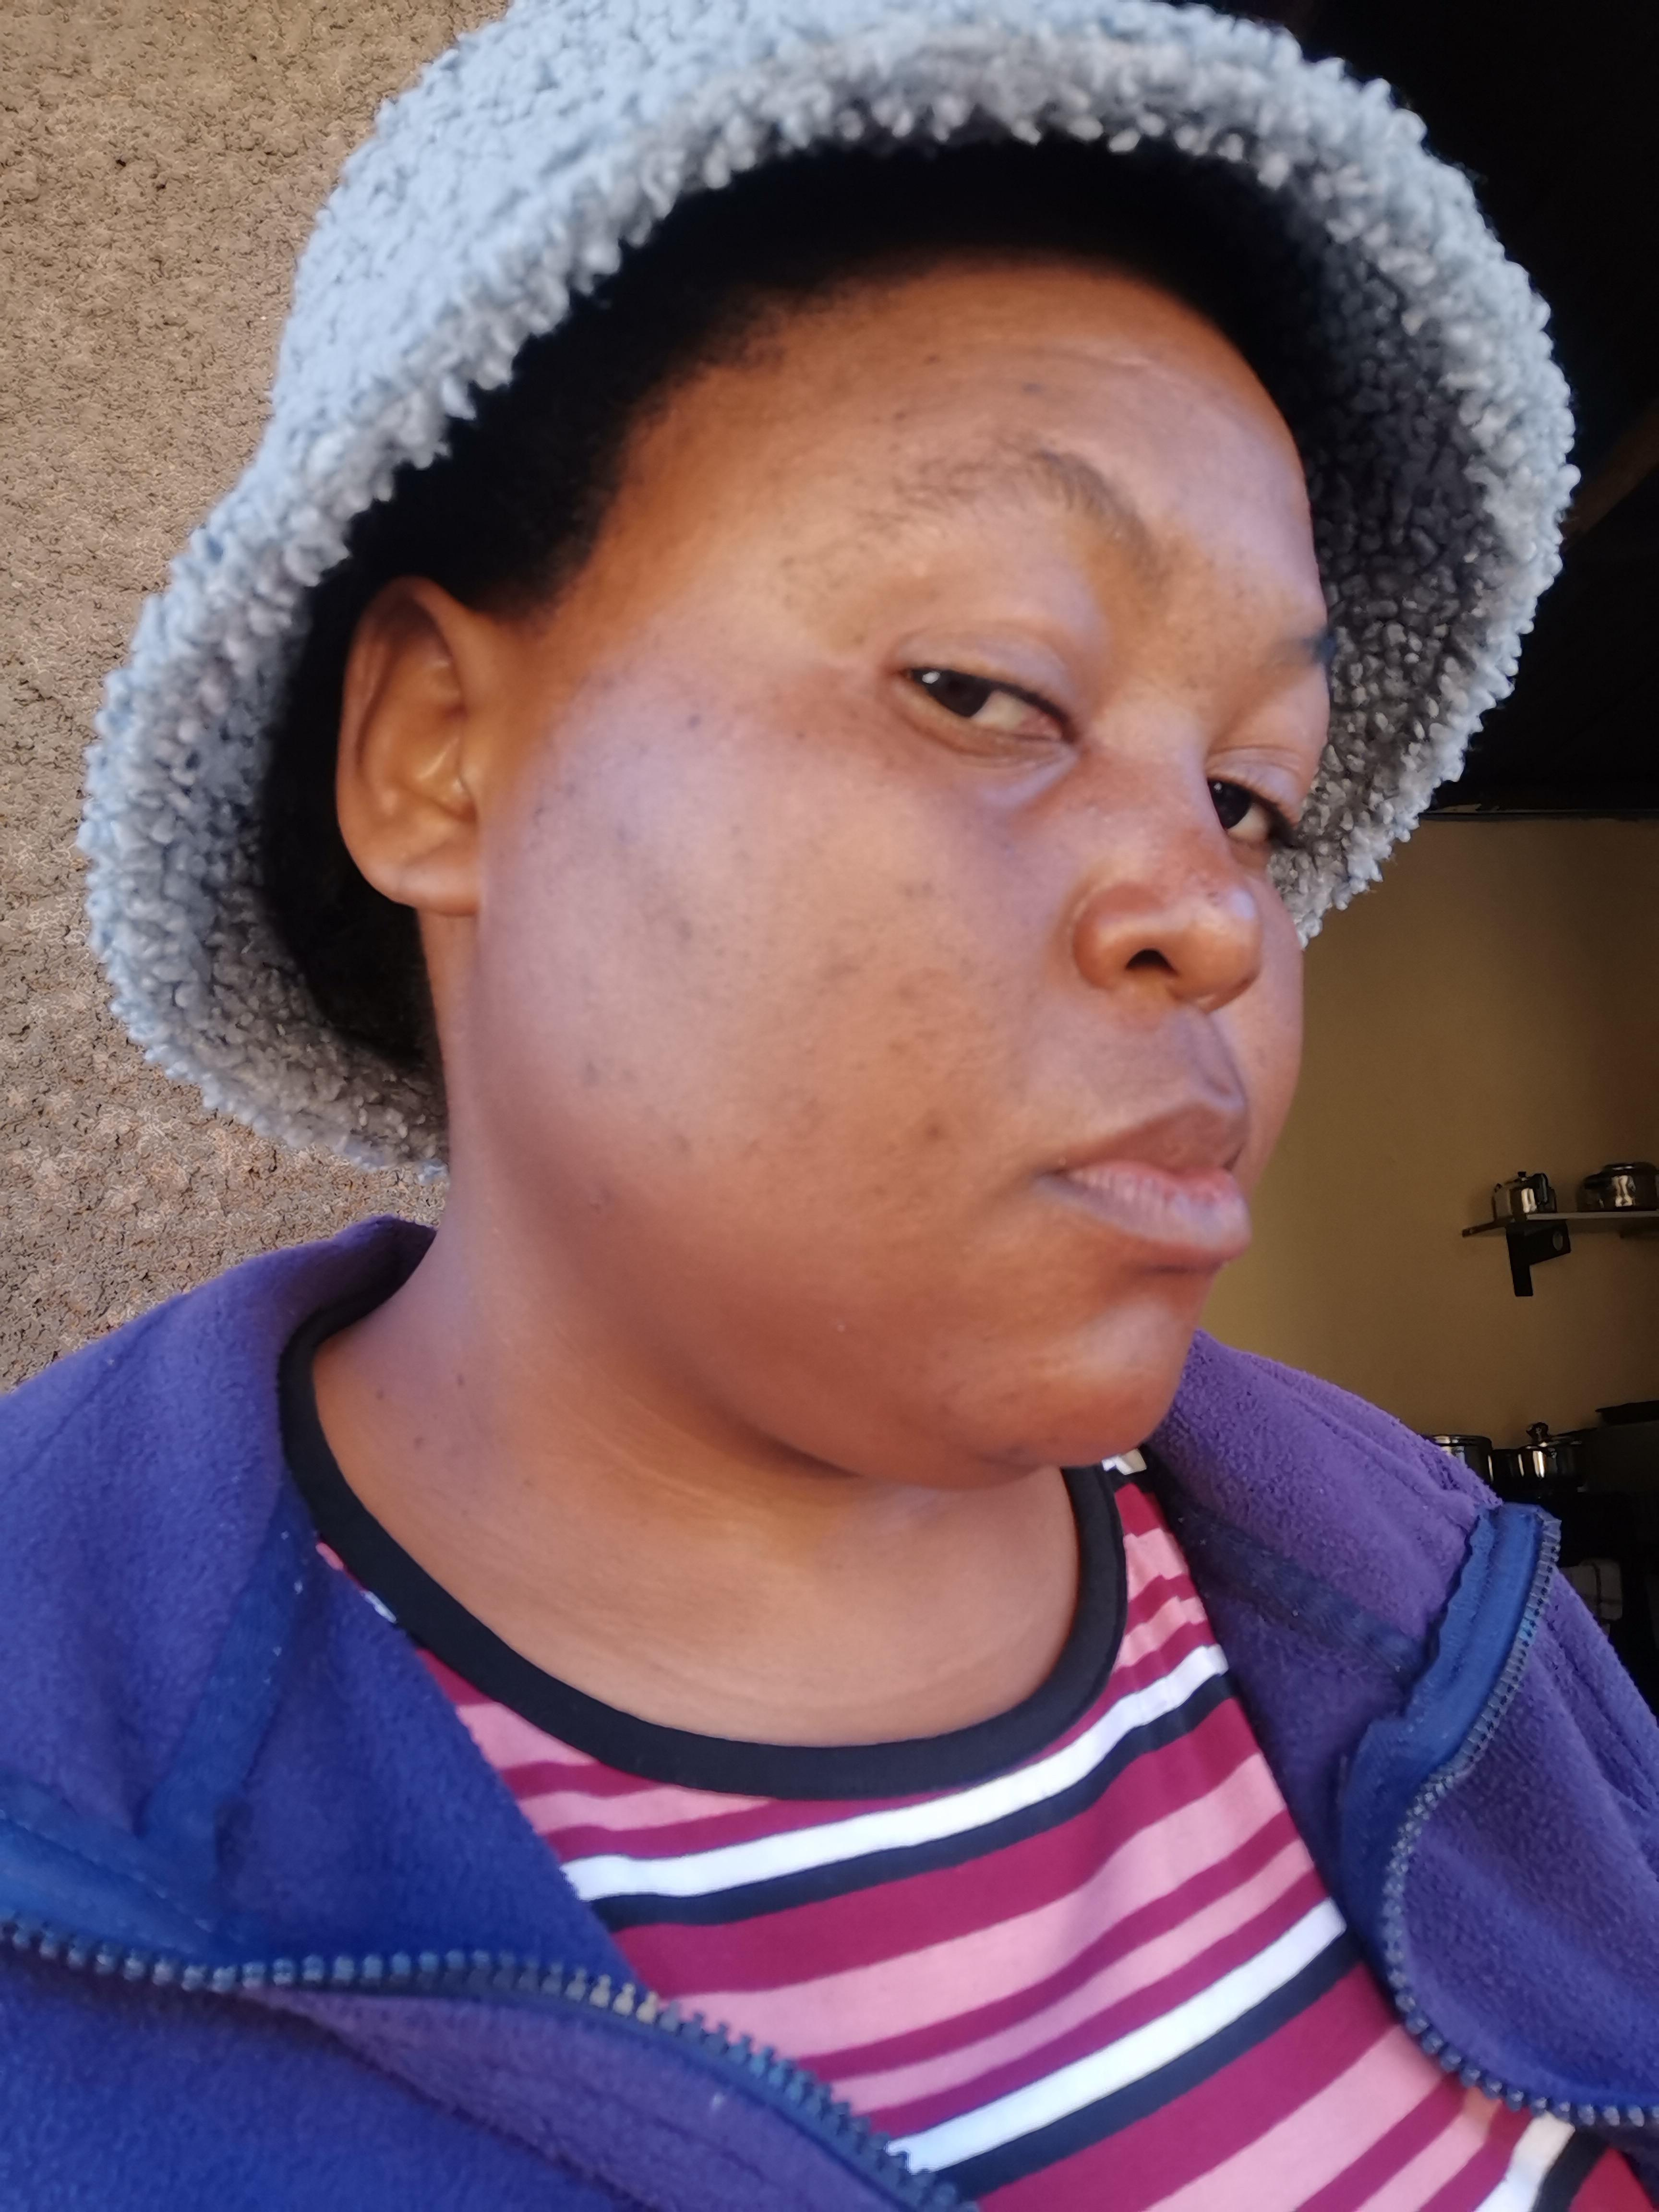Acne: (1171, 540, 1265, 702), (758, 914, 885, 1029), (873, 1012, 1004, 1089), (866, 331, 958, 437), (721, 1085, 842, 1157), (880, 953, 1004, 1003), (509, 765, 592, 829), (561, 1049, 641, 1109), (641, 1099, 709, 1160), (554, 657, 641, 700), (645, 413, 708, 462), (903, 1109, 955, 1165), (1180, 857, 1229, 911), (986, 1433, 1051, 1470), (889, 871, 941, 913), (662, 702, 711, 742), (664, 916, 708, 958), (1004, 364, 1054, 395), (1244, 1040, 1276, 1087), (612, 812, 638, 848)
